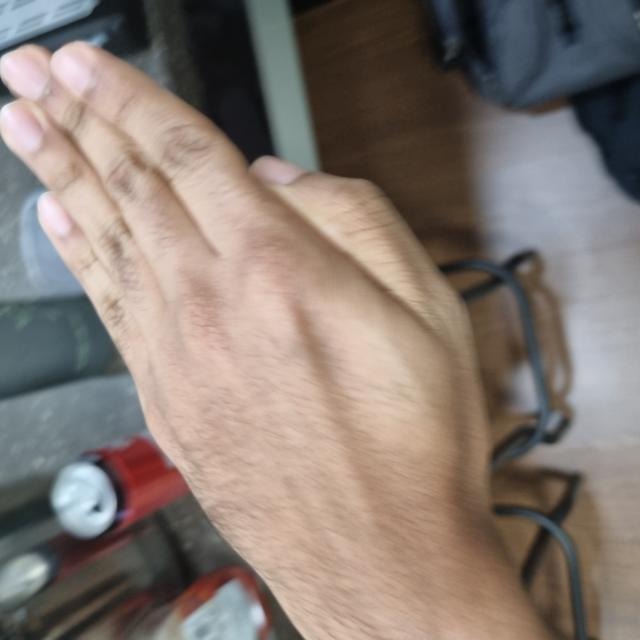Paper: (5, 1, 595, 501)
